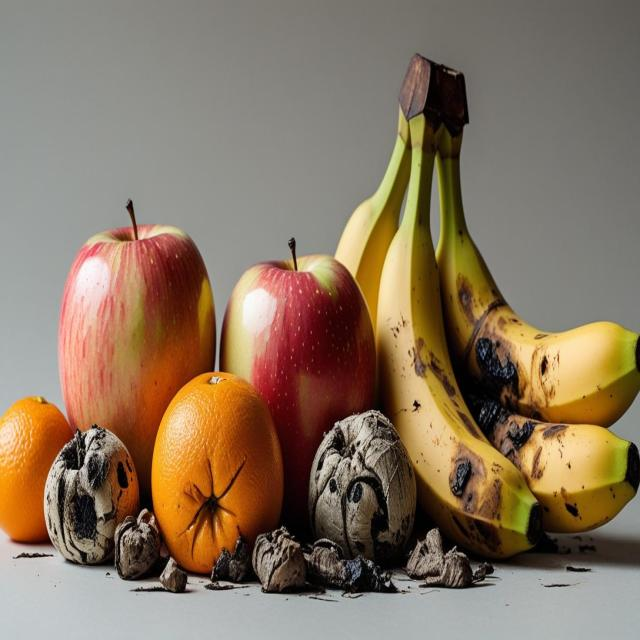apple: (58, 202, 216, 499), (220, 255, 376, 533)
banana: (435, 127, 640, 532), (376, 110, 541, 558)
orange: (151, 373, 283, 573), (0, 397, 73, 542)
